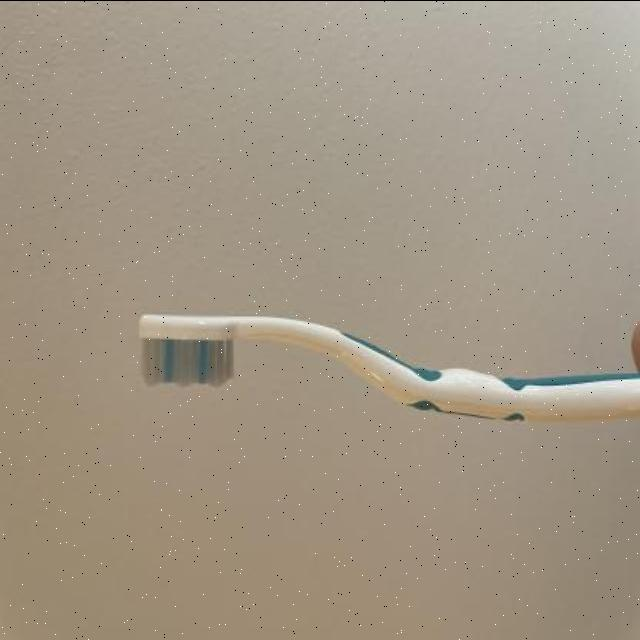toothbrush: (126, 304, 640, 426)
